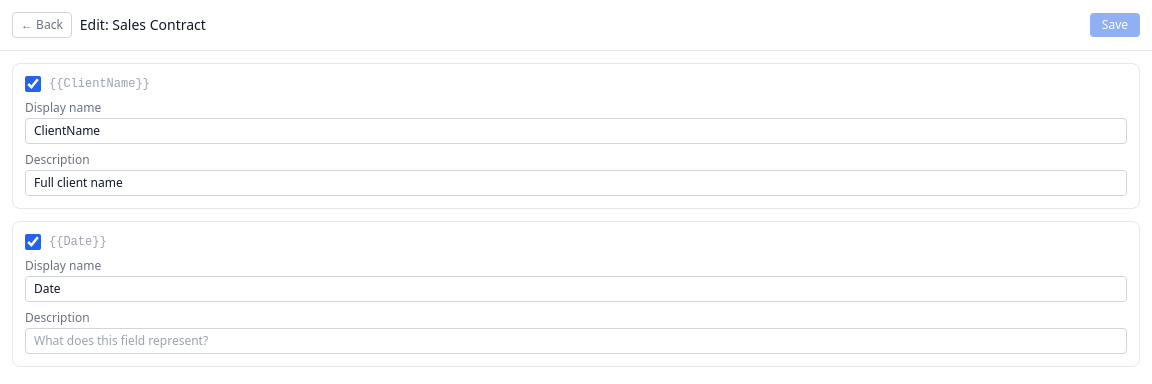
Test case: EditTemplate › Save button enables after toggling a field off
The width and height of the screenshot is (1152, 384).
Click the checkbox named "Enable field ClientName": (33, 84) 25,76 -> 41,92
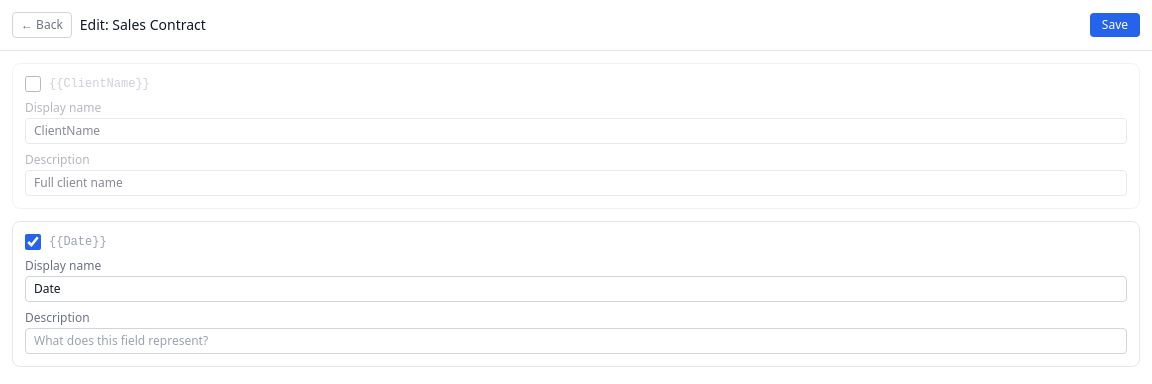
Check: the button "Save" is enabled, box 1090,13 -> 1140,37
